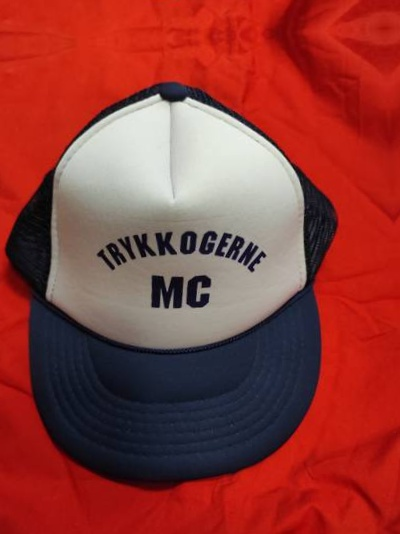Hat: (0, 55, 363, 487), (0, 0, 340, 22)
